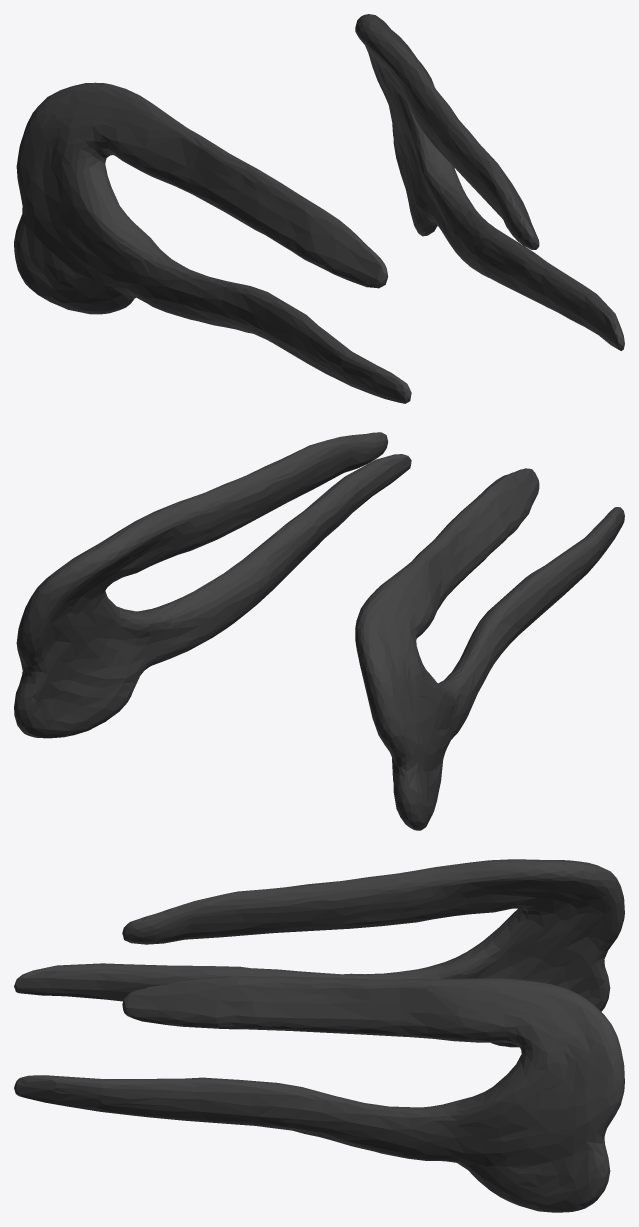
The model's file is m_buccinator_buccal_part.glb.
The picture shows the model from 3 angles, top to bottom: view 1: azimuth 30°, elevation 25°; view 2: azimuth 150°, elevation 25°; view 3: azimuth 270°, elevation 25°; orthographic projection. The views are drawn at different scales.
Visible parts, largest first — view 1: m_buccinator_buccal_part; view 2: m_buccinator_buccal_part; view 3: m_buccinator_buccal_part.
Boxes of the visible parts, x1,y1,x2,y2 form: m_buccinator_buccal_part: [14, 14, 624, 403]; m_buccinator_buccal_part: [14, 432, 624, 830]; m_buccinator_buccal_part: [14, 859, 624, 1212].
Bounding box in the file's own units: 0.00187 × 0.000936 × 0.0025.
Materials: 1 (1 with a texture image).
